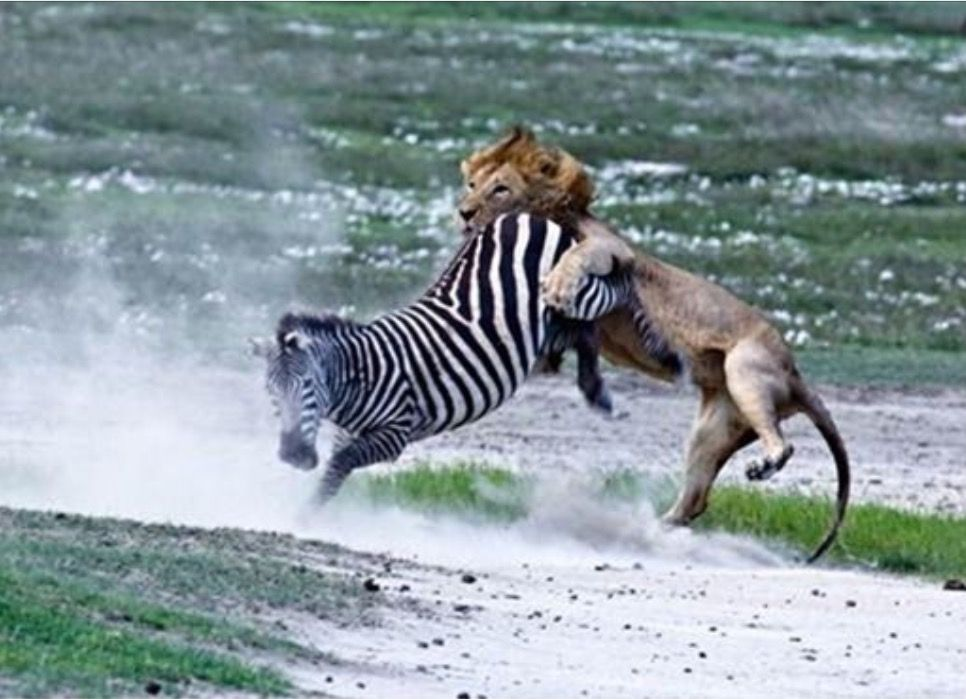lion: (450, 118, 843, 560)
zebra: (269, 207, 584, 505)
